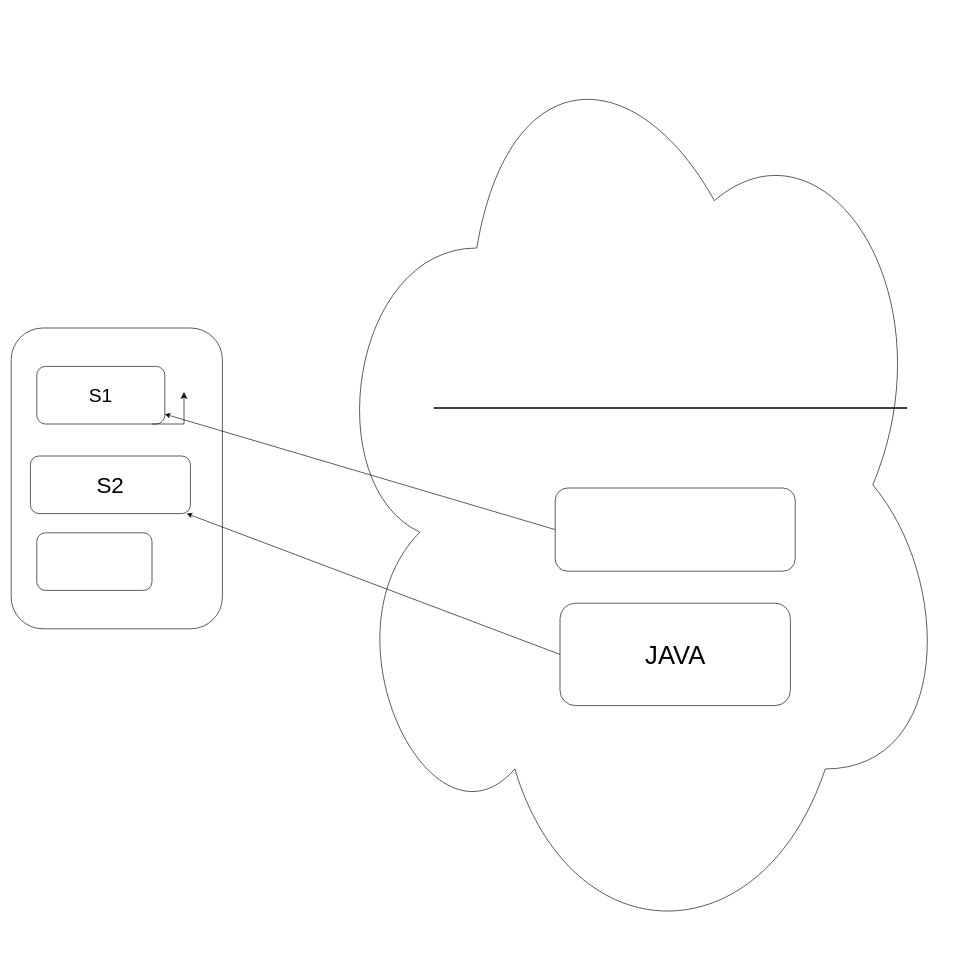
Image size: 963x970. Some labels were removed from this diagram. The centre of each missing label's shape, as x and y in pixels:
HELLO: pixel 675 529
S3: pixel 94 561
